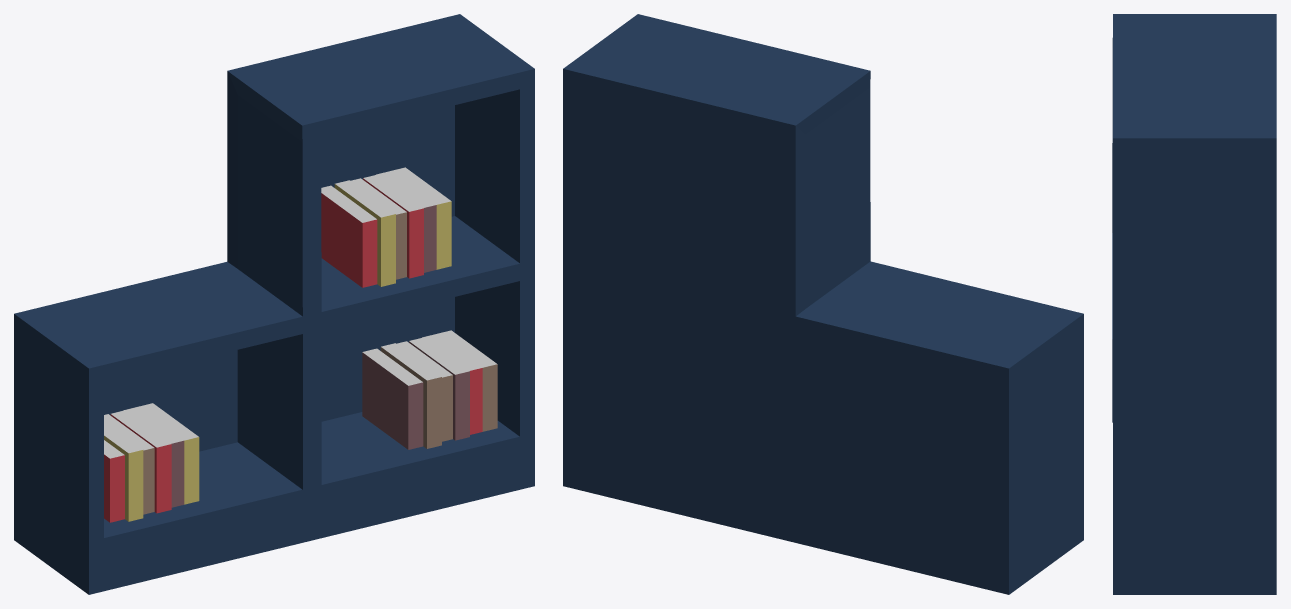
The model's file is bookcase2.fbx.
3 renders of one model, left to right at view 1: azimuth 30°, elevation 25°; view 2: azimuth 150°, elevation 25°; view 3: azimuth 270°, elevation 25°, orthographic. The views are drawn at different scales.
Parts seen in each view (by area): view 1: bookCaseStyle, books3, books1, books2; view 2: bookCaseStyle; view 3: bookCaseStyle.
Boxes of the visible parts, left/top/right/bottom form: bookCaseStyle: left=14, top=14, right=534, bottom=594; books3: left=362, top=330, right=497, bottom=449; books1: left=321, top=167, right=451, bottom=287; books2: left=104, top=403, right=199, bottom=522; bookCaseStyle: left=563, top=14, right=1083, bottom=594; bookCaseStyle: left=1112, top=14, right=1276, bottom=594.
Bounding box in the file's own units: 309 × 277 × 90.33.
